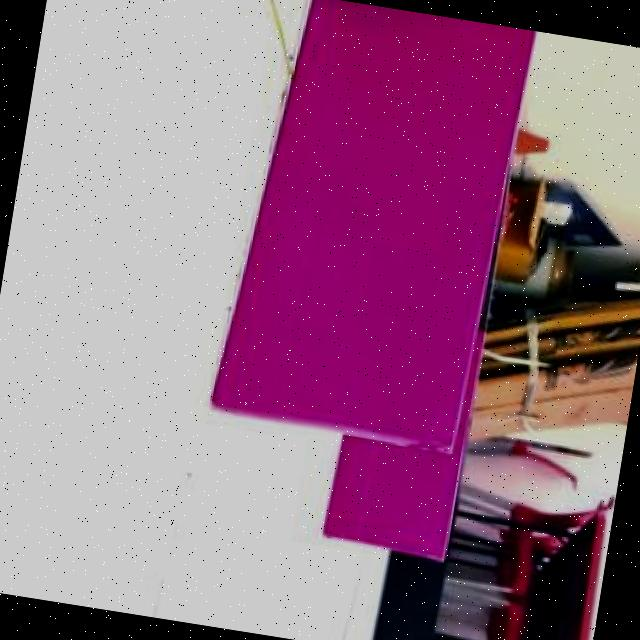xparking: (233, 0, 524, 454), (319, 438, 464, 562)
